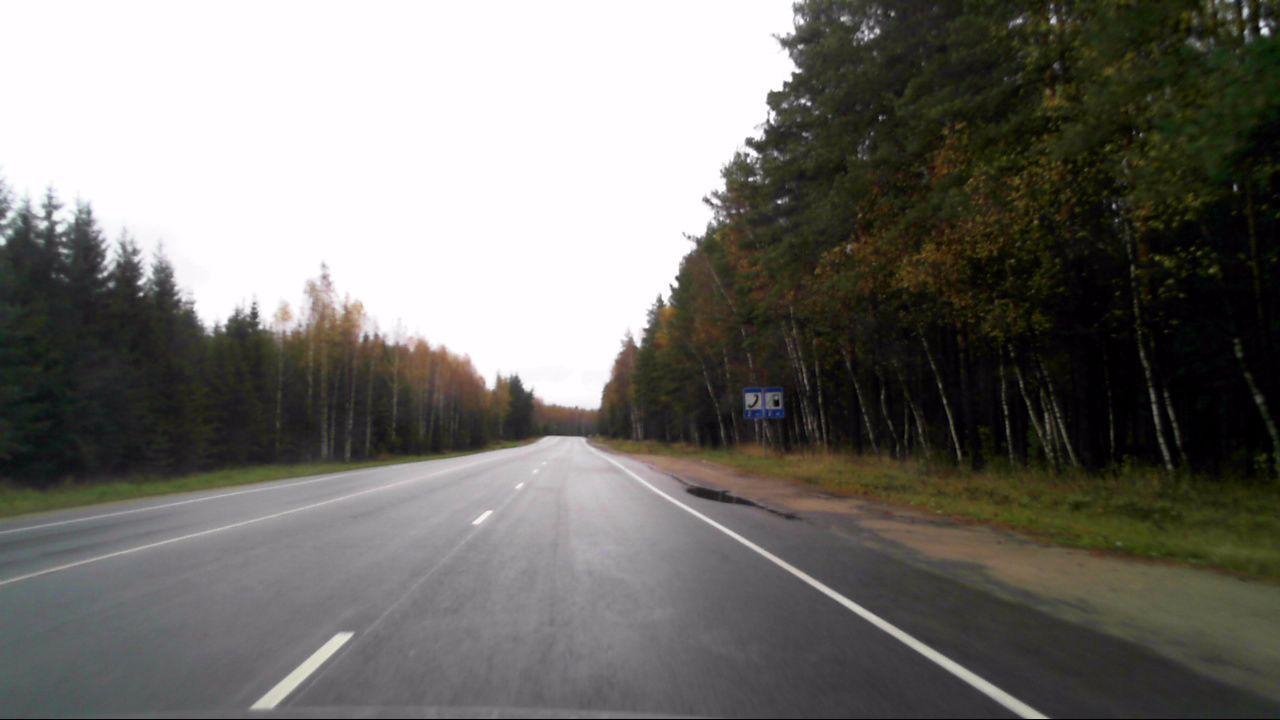7_3: (767, 388, 787, 418)
7_6: (742, 387, 767, 421)
